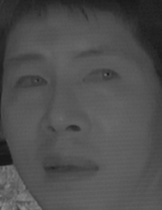eye: (81, 64, 120, 90), (10, 71, 49, 94)
mouth: (42, 149, 104, 185)
